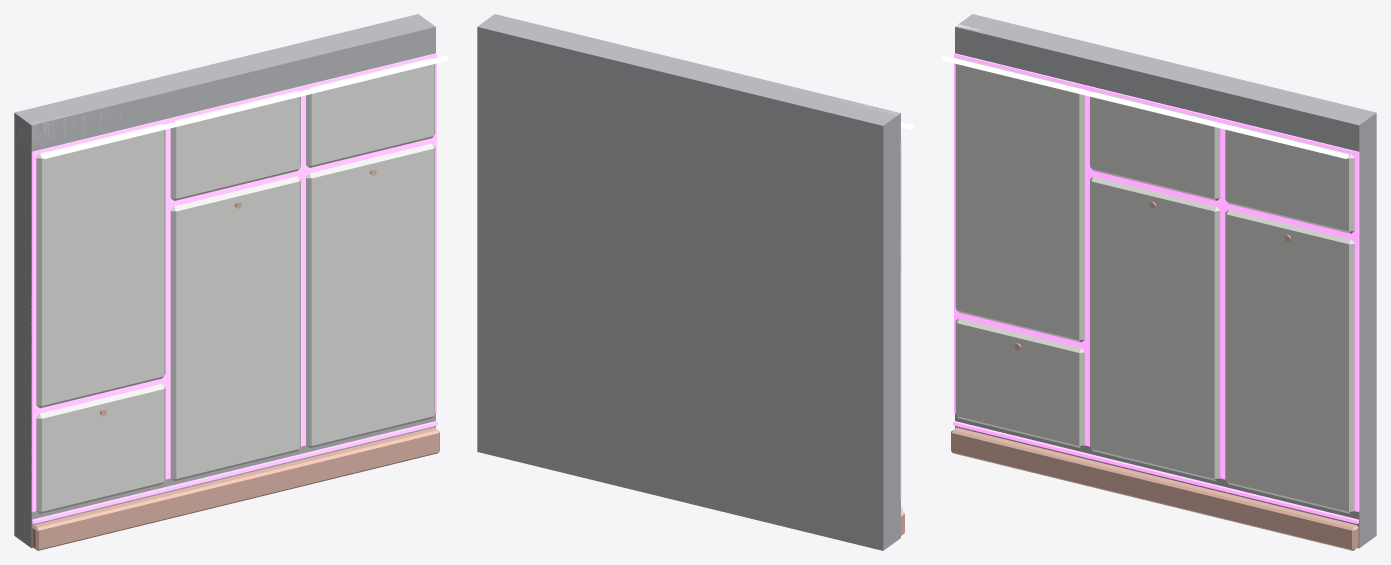
File: wall_porcelain_a.glb
3 views of the same model, side by side, from view 1: azimuth 30°, elevation 25°; view 2: azimuth 150°, elevation 25°; view 3: azimuth 330°, elevation 25° (orthographic).
Parts seen in each view (by area): view 1: wall_porcelain_a; view 2: wall_porcelain_a; view 3: wall_porcelain_a.
Part boxes in pixels (x1=…): wall_porcelain_a: x1=14, y1=14, x2=448, y2=550; wall_porcelain_a: x1=477, y1=14, x2=913, y2=550; wall_porcelain_a: x1=942, y1=14, x2=1376, y2=550.
Size of the model in its own units: 4 by 4 by 0.52.
